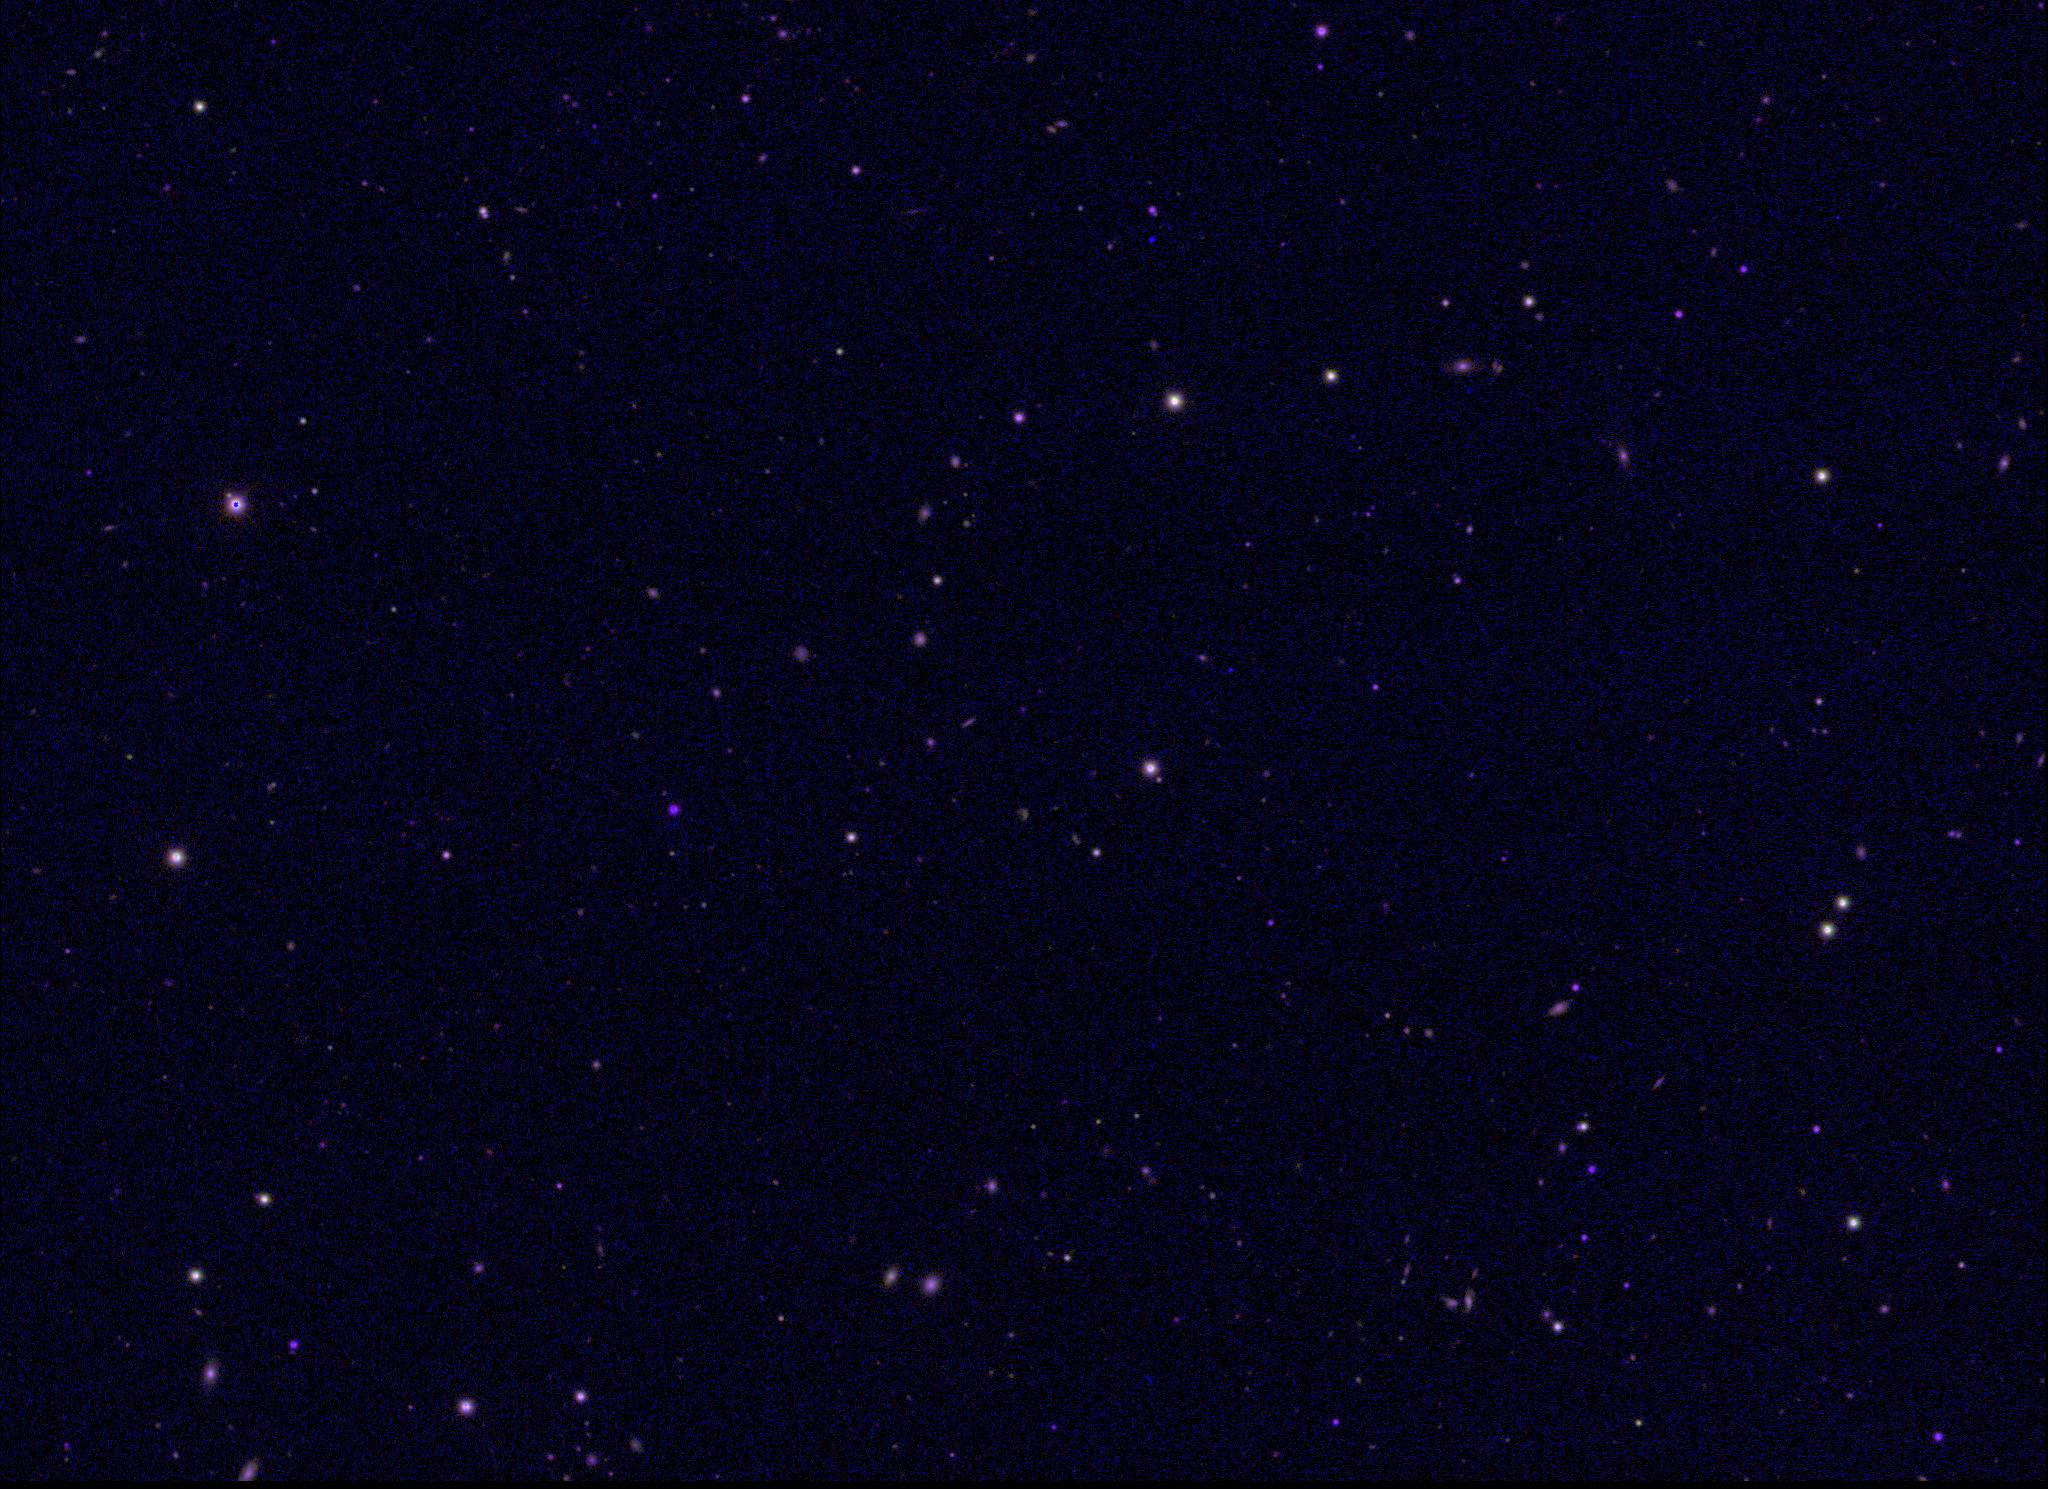L: (1224, 663, 1239, 678), (1145, 229, 1159, 243)
